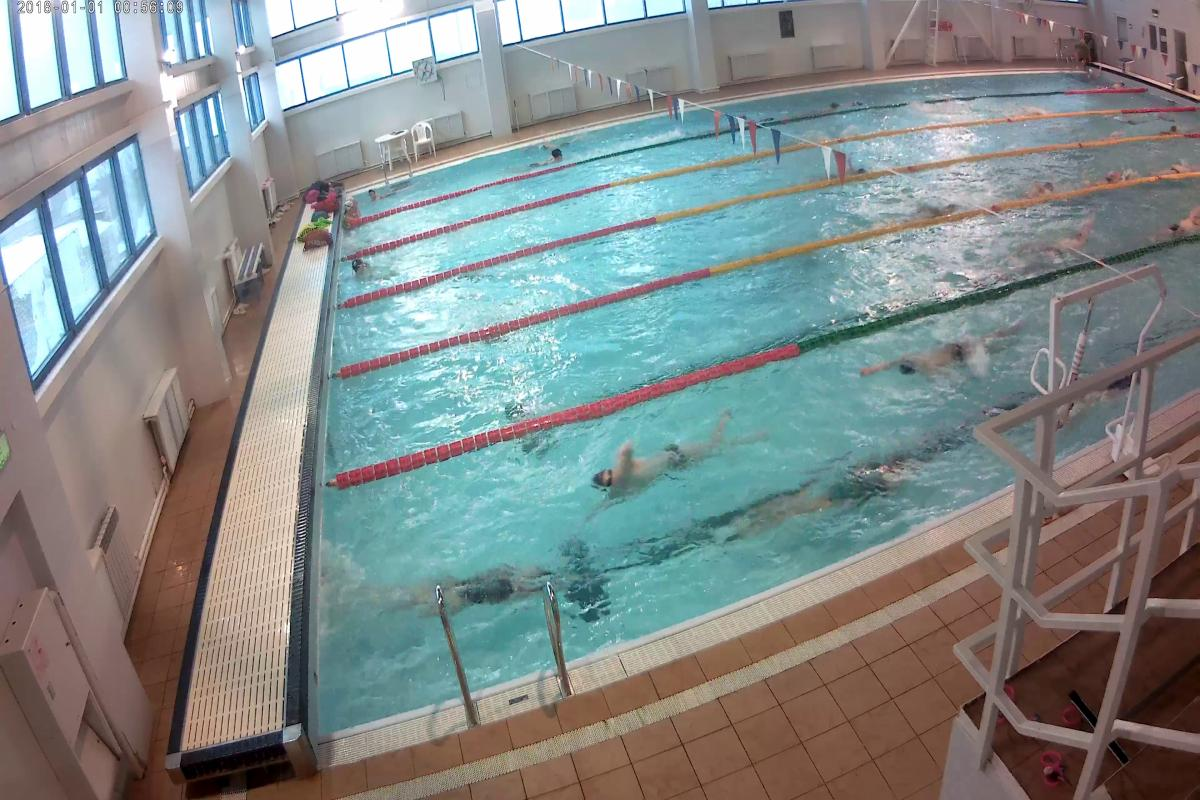swimmer: (592, 406, 748, 502), (752, 456, 927, 535), (853, 322, 1026, 390), (398, 542, 554, 617), (1032, 206, 1110, 271), (346, 247, 385, 286), (1157, 205, 1198, 240)
